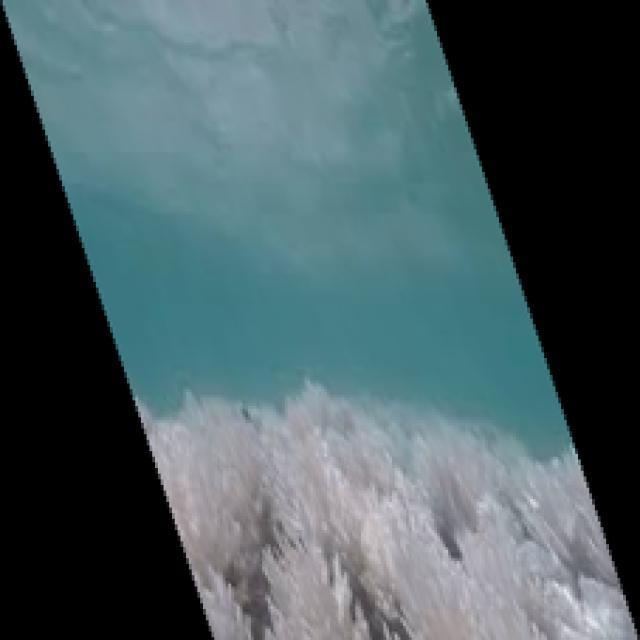Bleached: (128, 379, 638, 640)
